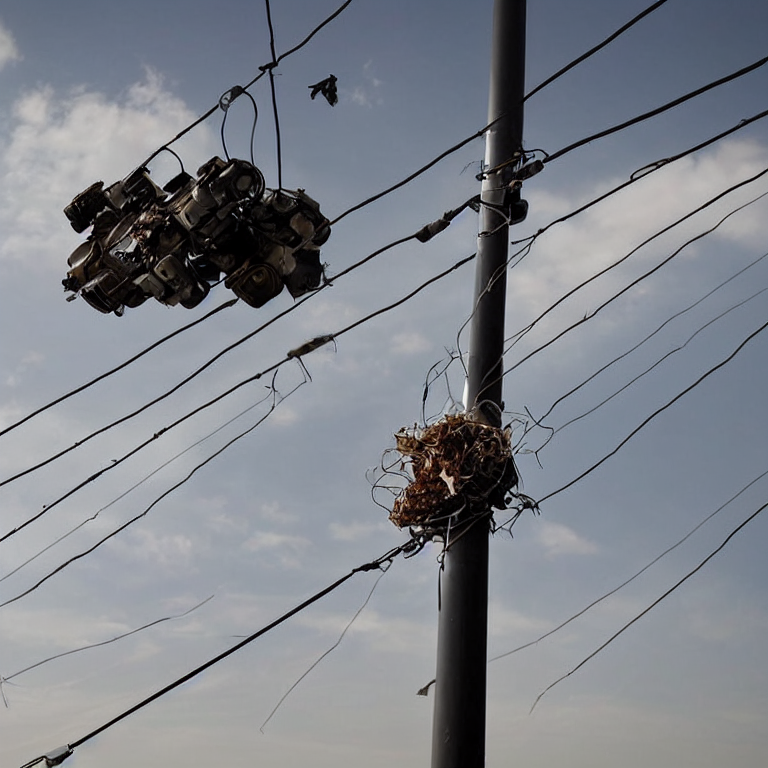nest: (394, 429, 524, 527)
